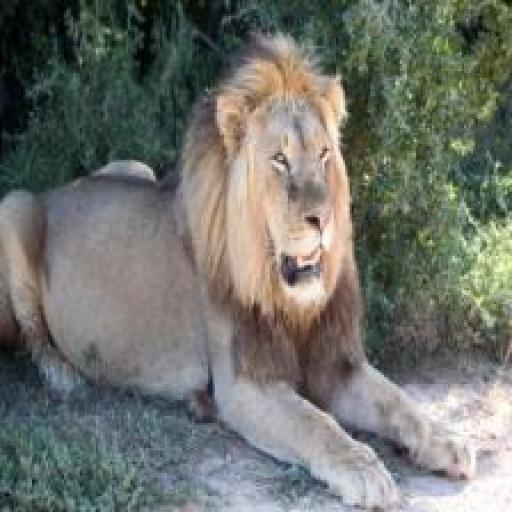lion: (0, 34, 485, 511)
